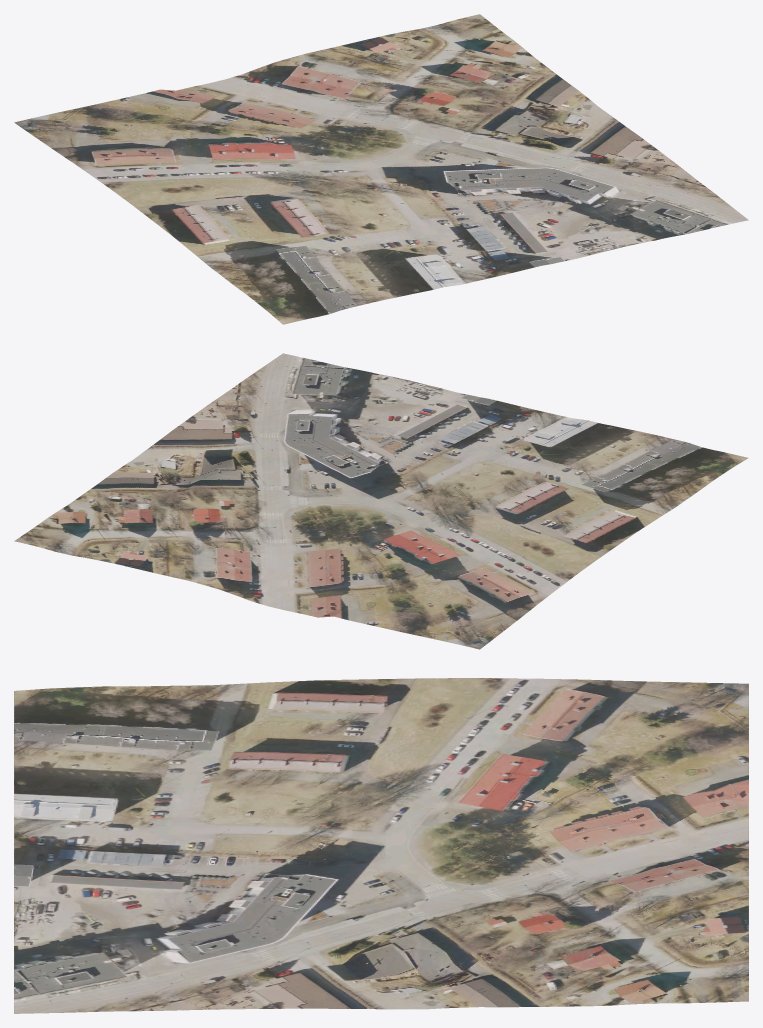
The model's file is CM_Terrain_24490254_6821022.fbx.
The picture shows the model from 3 angles, top to bottom: view 1: azimuth 30°, elevation 25°; view 2: azimuth 150°, elevation 25°; view 3: azimuth 270°, elevation 25°; orthographic projection. The views are drawn at different scales.
Visible parts, largest first — view 1: CM_Terrain_24490254_6821022_LOD0; view 2: CM_Terrain_24490254_6821022_LOD0; view 3: CM_Terrain_24490254_6821022_LOD0.
Part boxes in pixels (<box>): CM_Terrain_24490254_6821022_LOD0: <box>14,14,748,324</box>; CM_Terrain_24490254_6821022_LOD0: <box>14,353,748,649</box>; CM_Terrain_24490254_6821022_LOD0: <box>14,678,748,1013</box>.
Size of what is drawn, in the model's own units: 205 by 8.18 by 205.
